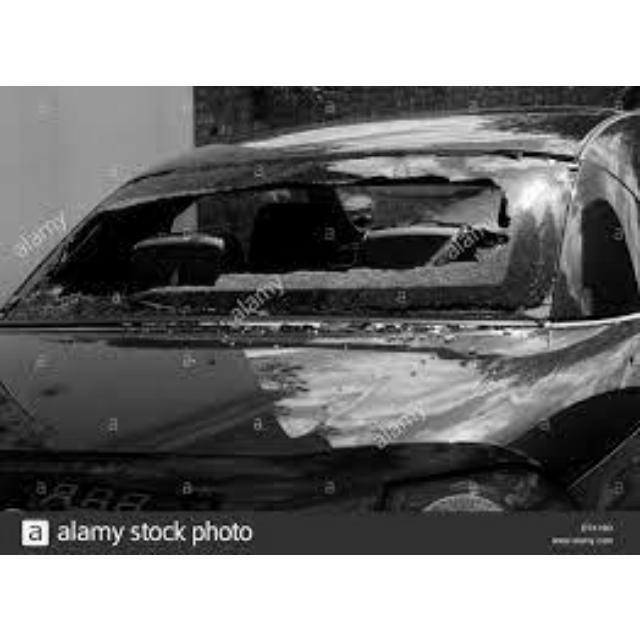Rear-windscreen-Damage: (0, 147, 578, 376)
